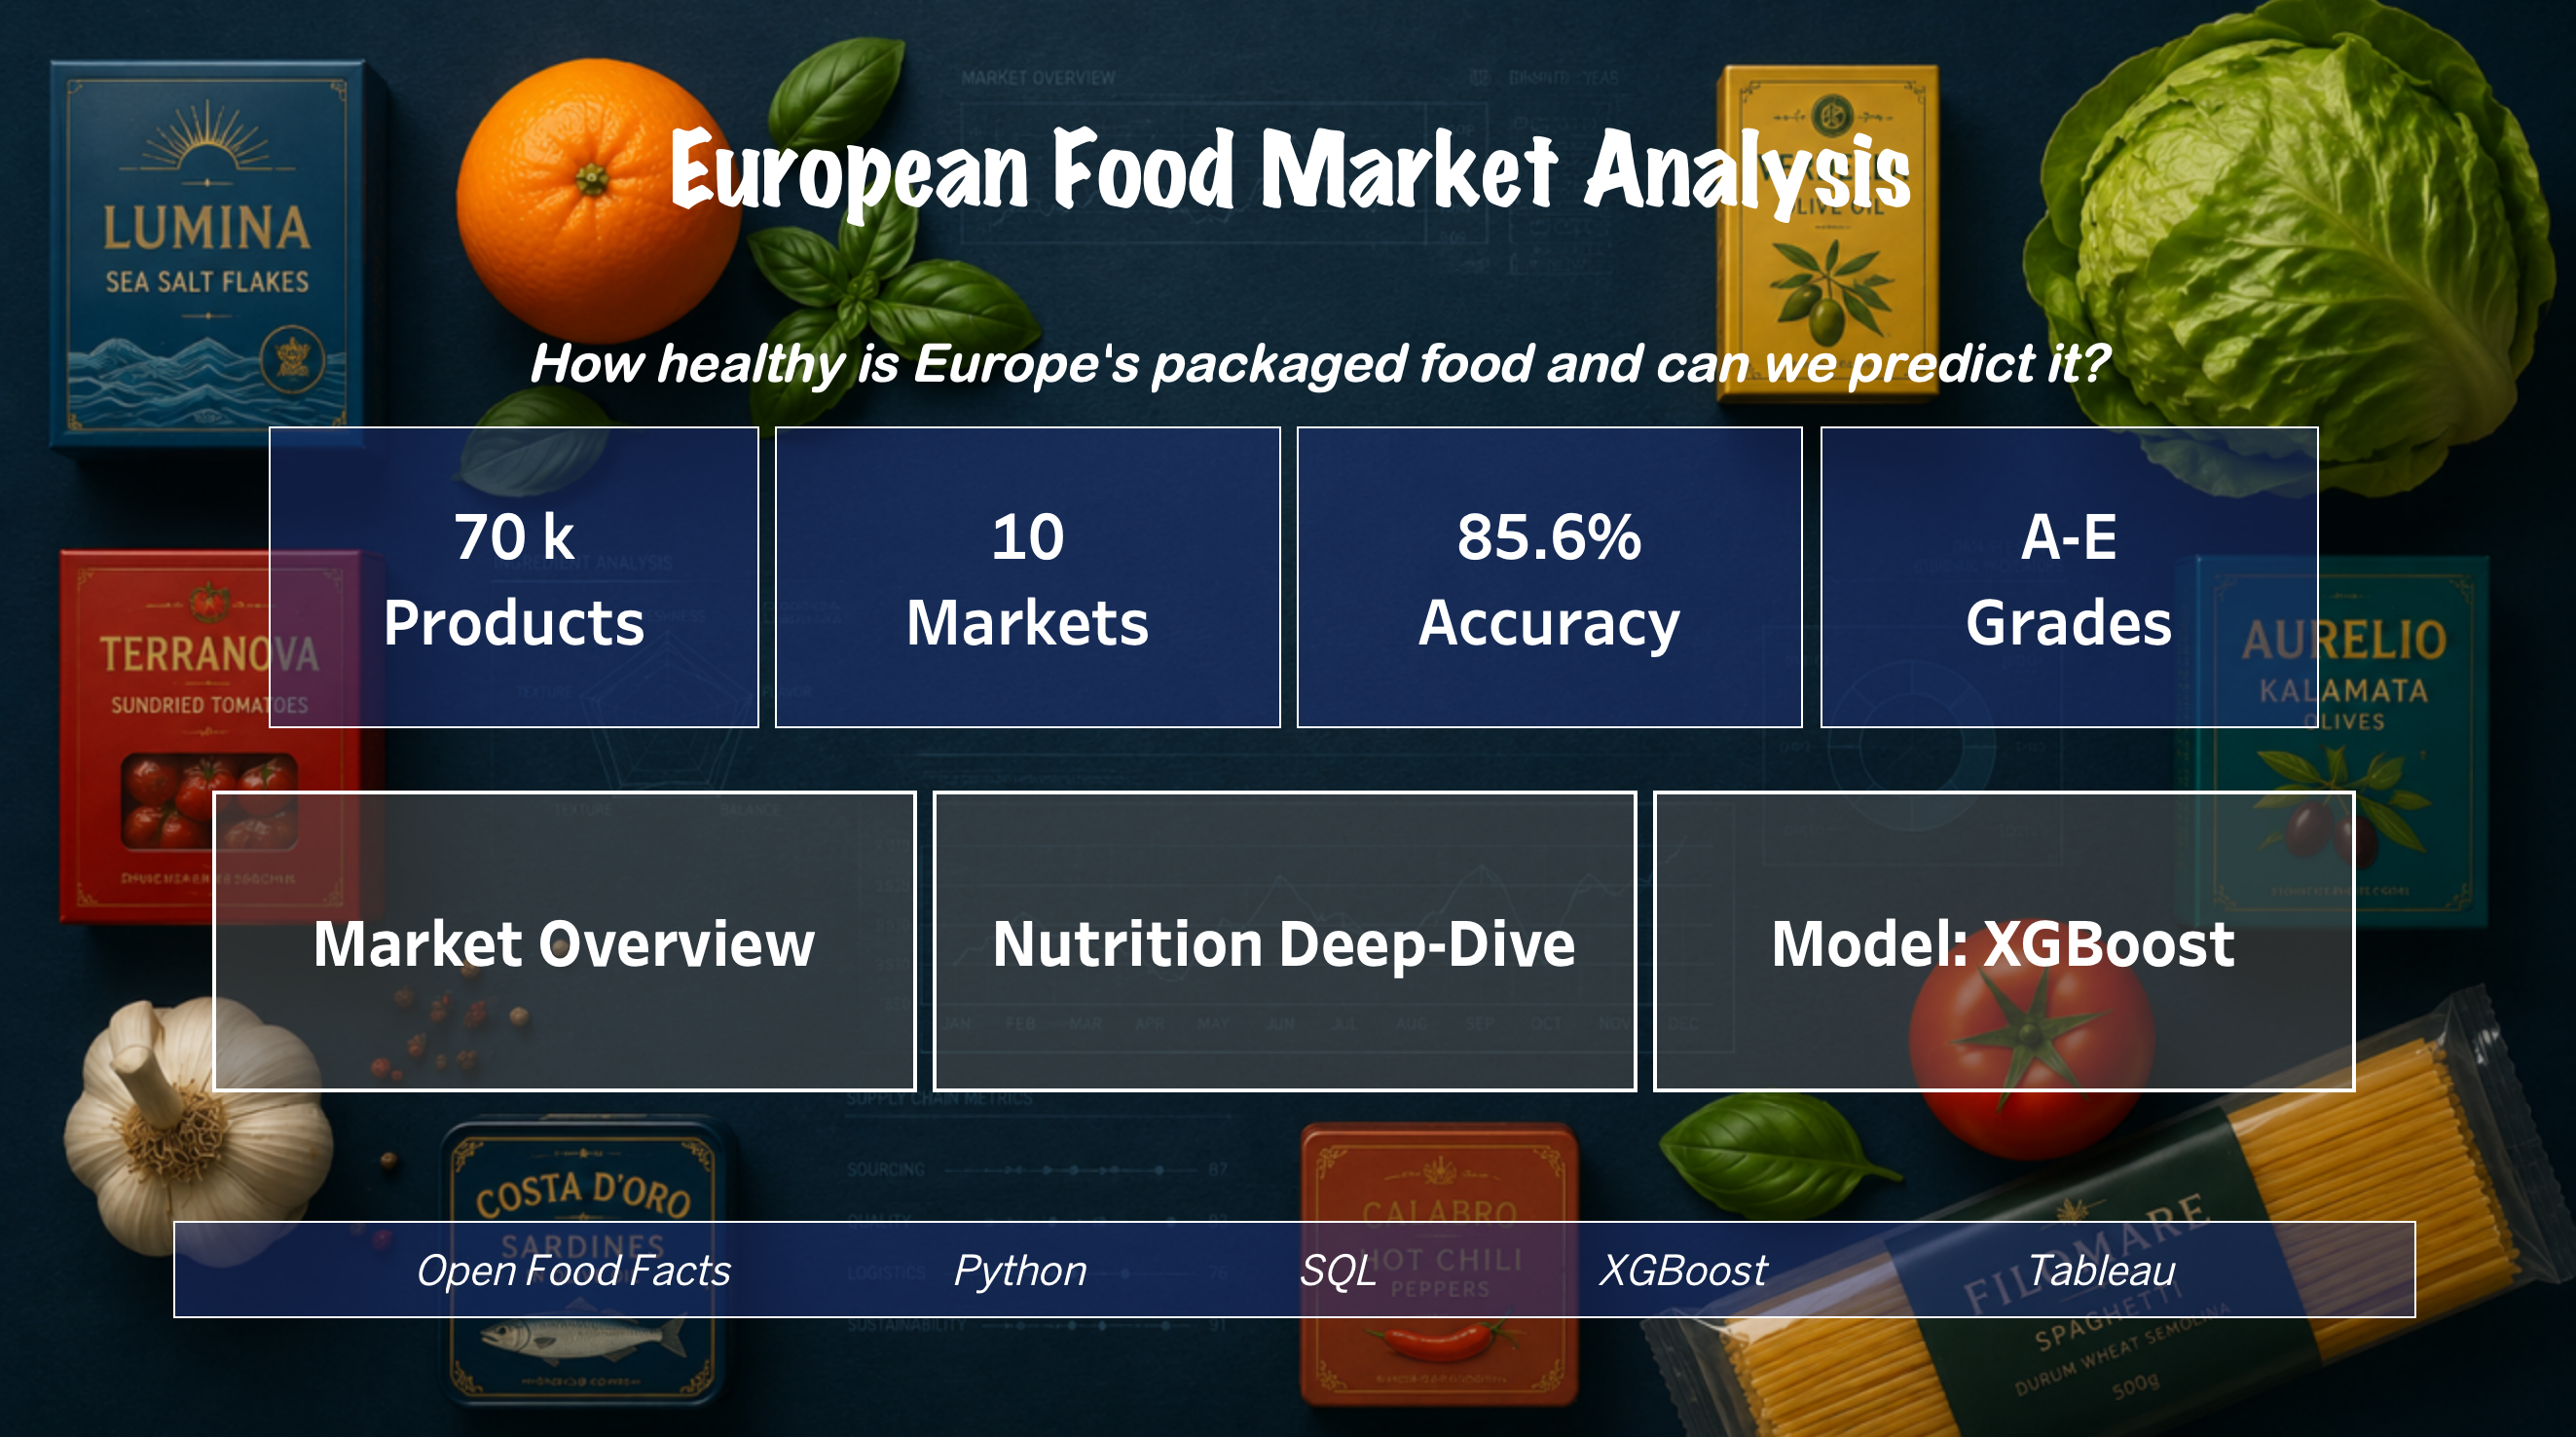

The page's visual inventory and layout, read from the dashboard file:
{"tool":"tableau","page":{"name":"HOME","canvas":[1366,768],"ordinal":3},"visuals":[{"type":"image","param":"/Users/kanakyadav/Downloads/ChatGPT Image Jul 7, 2026, 02_06_48 PM.png","box":[8,8,1350,752]},{"type":"text","box":[352,51,646,104]},{"type":"text","box":[212,148,957,104]},{"type":"text","box":[146,229,260.2,163]},{"type":"text","box":[406.2,229,268.2,163]},{"type":"text","box":[674.5,229,268.2,163]},{"type":"text","box":[942.7,229,264.2,163]},{"type":"dashboard-object","box":[117,416,370,163]},{"type":"dashboard-object","box":[487,416,370,163]},{"type":"dashboard-object","box":[857,416,369,163]},{"type":"text","box":[97,637,1160,58]}]}

Visuals, with their boxes in screenshot pixels (x1, y1, x2, y2), scaled from the page's 1366x768 canvas onto the 2576x1437 screenshot:
image: 15:15:2561:1422
text: 664:95:1882:290
text: 400:276:2204:471
text: 276:428:766:733
text: 766:428:1271:733
text: 1272:428:1778:733
text: 1778:428:2276:733
dashboard-object: 221:779:918:1084
dashboard-object: 918:779:1616:1084
dashboard-object: 1616:779:2312:1084
text: 183:1192:2371:1301
